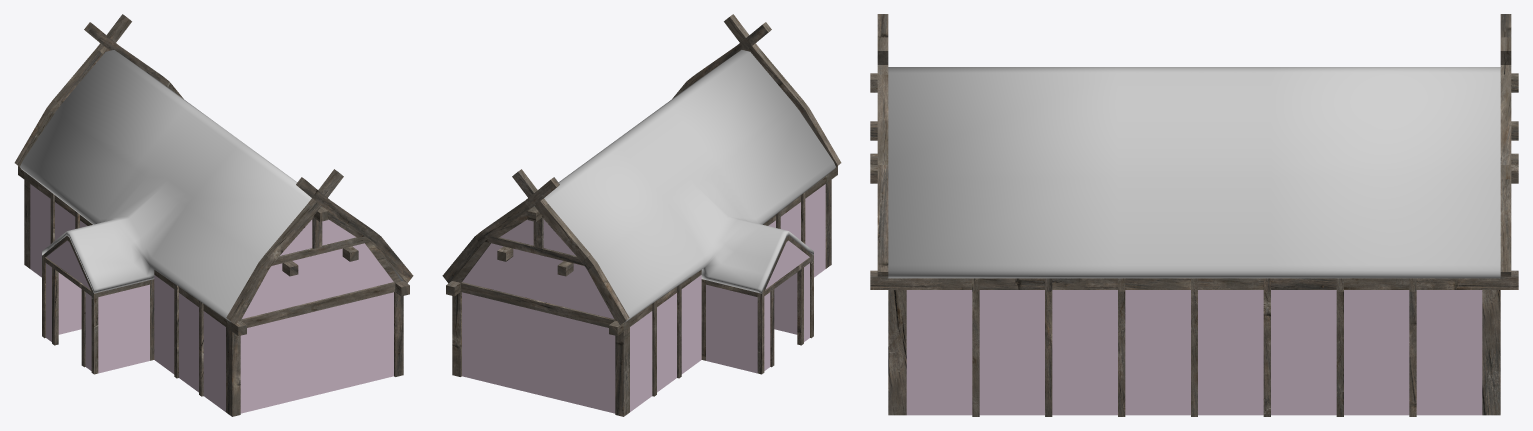
The model's file is SM_Viking_hut_V03.fbx.
3 renders of one model, left to right at view 1: azimuth 30°, elevation 25°; view 2: azimuth 150°, elevation 25°; view 3: azimuth 270°, elevation 25°, orthographic. The views are drawn at different scales.
Visible parts, largest first — view 1: Hut_base_03; view 2: Hut_base_03; view 3: Hut_base_03.
Part boxes in pixels (left/top/right/bottom): Hut_base_03: left=14, top=14, right=413, bottom=416; Hut_base_03: left=442, top=14, right=841, bottom=416; Hut_base_03: left=870, top=14, right=1518, bottom=416.
Size of the model in its own units: 554 by 497 by 890.
